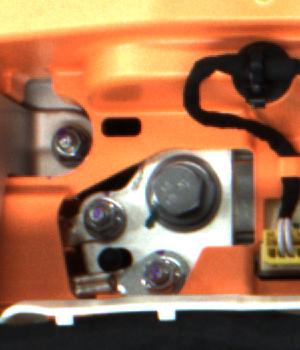nut_b: (140, 156, 224, 228)
screw_s: (132, 251, 187, 297), (46, 126, 89, 167), (82, 198, 121, 232)
